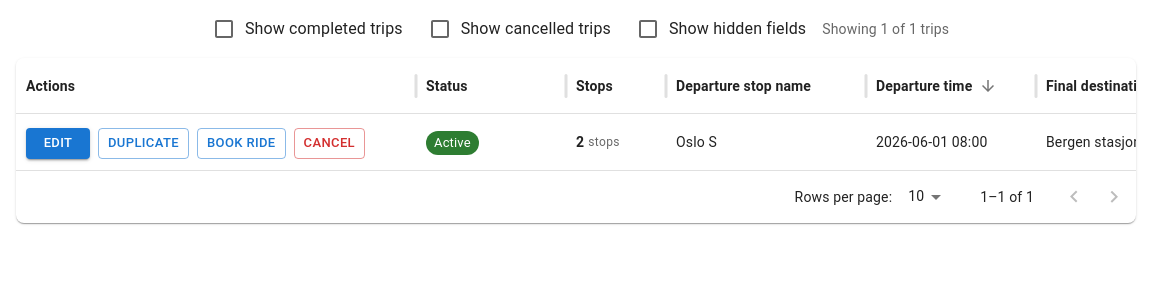
Scenario: CarPoolingTrips › cancels a whole trip when the Cancel button is clicked
Click the button "Cancel".
click(329, 143)  # box top-left (294, 128), bottom-right (365, 159)
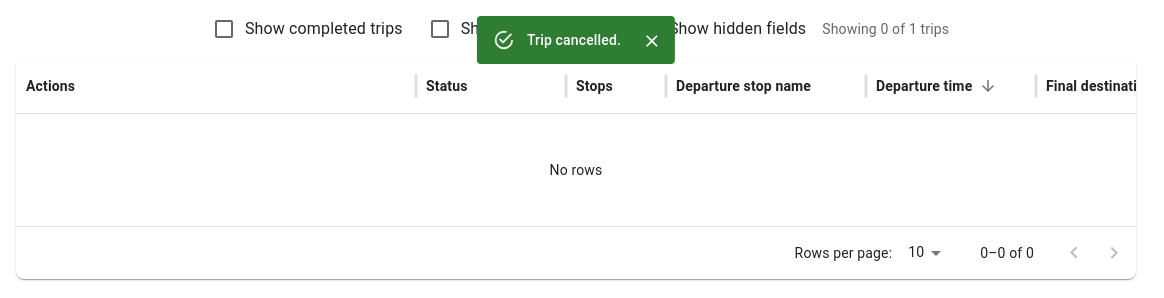
Expected: the text "Trip cancelled." is shown, top-left (527, 32), bottom-right (621, 48)
Expected: the text "Oslo S" is gone
